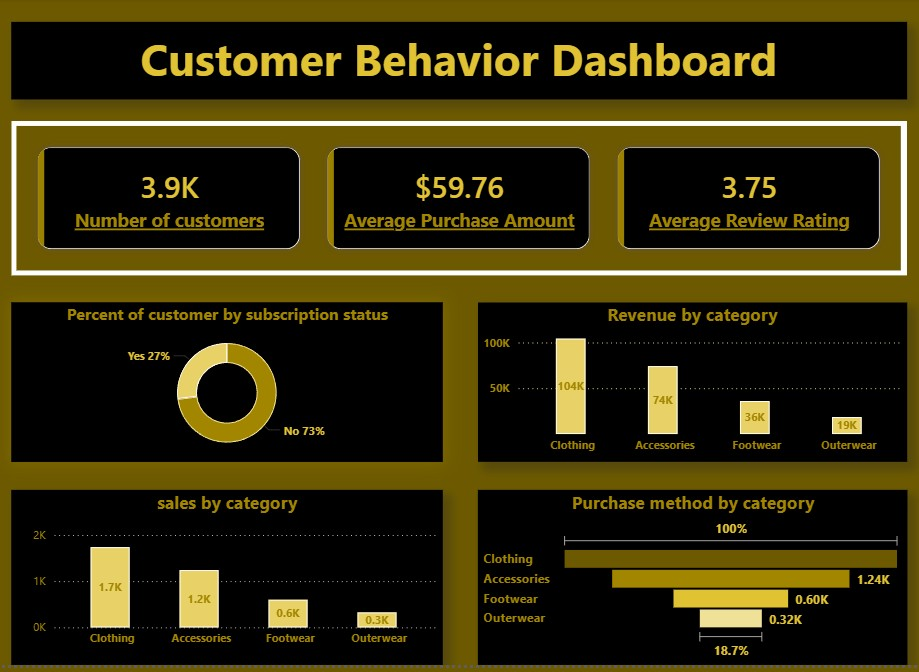

This screenshot's page, from the dashboard's own definition file:
{"tool":"powerbi","page":{"name":"Page 1","canvas":[1280,720],"ordinal":0},"visuals":[{"type":"cardVisual","fields":{"Data":["data_analyst customer.Number of customers","data_analyst customer.Average Purchase Amount","data_analyst customer.Average Review Rating"]},"box":[156.7,133.3,966.7,166.7],"z":0},{"type":"textbox","box":[156.7,26.7,966.7,83.3],"z":1000},{"type":"donutChart","title":"Percent of customer by subscription status","fields":{"Category":["data_analyst customer.subscription_status"],"Y":["CountNonNull(data_analyst customer.customer_id)"]},"box":[156.7,328.3,465,171.7],"z":2000},{"type":"clusteredColumnChart","title":"Revenue by category","fields":{"Y":["Sum(data_analyst customer.purchase_amount_(usd))"],"Category":["data_analyst customer.category"]},"box":[660,328.3,463.3,171.7],"z":3000},{"type":"columnChart","title":"sales by category","fields":{"Category":["data_analyst customer.category"],"Y":["CountNonNull(data_analyst customer.customer_id)"]},"box":[156.7,531.7,465,188.3],"z":4000},{"type":"funnel","title":"Purchase method by category","fields":{"Category":["data_analyst customer.category","data_analyst customer.payment_method"],"Y":["Count(data_analyst customer.customer_id)"]},"box":[660,531.7,463.3,188.3],"z":5000}]}

Visuals, with their boxes on the page's 1280x720 design canvas (x1, y1, x2, y2). These are canvas units, not pixel positions in the 919x672 screenshot, which may show the page scaled, cropped or inside an application window:
cardVisual - data_analyst customer.Number of customers x data_analyst customer.Average Purchase Amount: BBox(157, 133, 1123, 300)
textbox: BBox(157, 27, 1123, 110)
"Percent of customer by subscription status" donutChart: BBox(157, 328, 622, 500)
"Revenue by category" clusteredColumnChart: BBox(660, 328, 1123, 500)
"sales by category" columnChart: BBox(157, 532, 622, 720)
"Purchase method by category" funnel: BBox(660, 532, 1123, 720)
